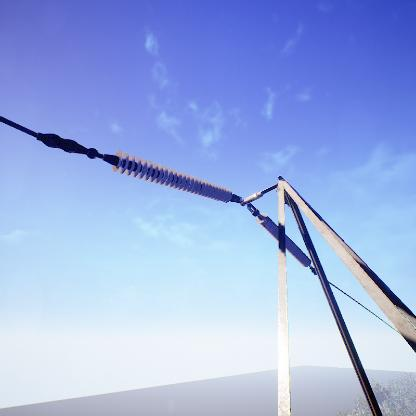insulator: (110, 150, 234, 204), (257, 211, 312, 268)
